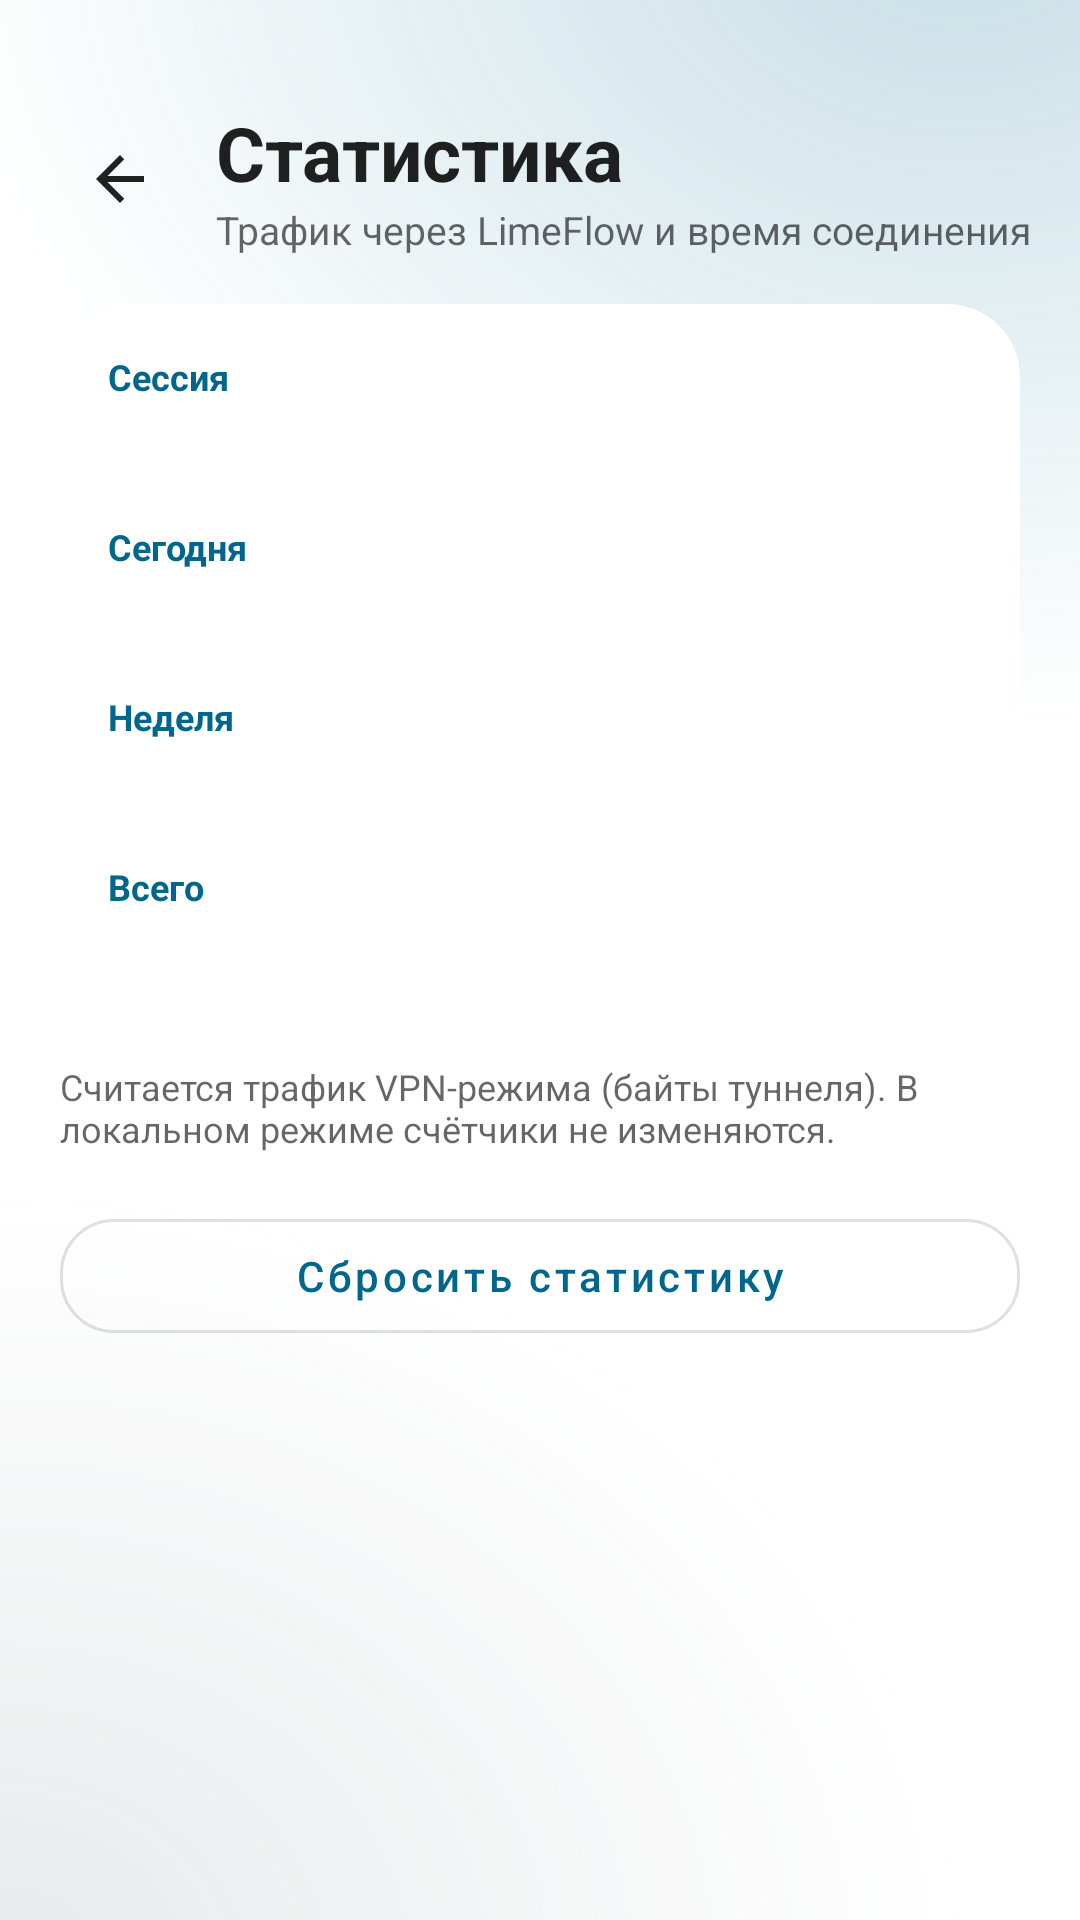

Locate icon controls on the screen. Image size 1080 × 1920, boxes as (x1=x1, y1=y1, x2=x2, y2=y2).
Назад: (x1=96, y1=155, x2=144, y2=203)
